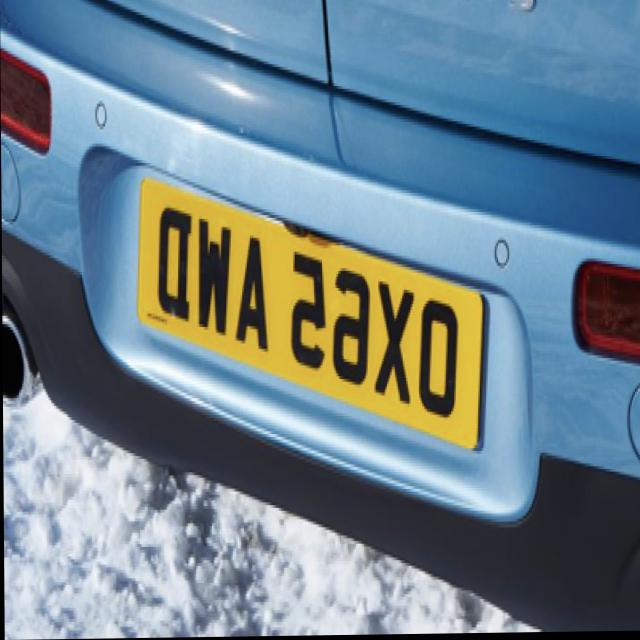licence: (153, 177, 465, 487)
